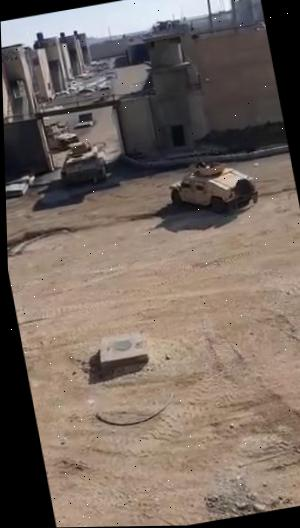armored_car: (163, 152, 260, 222), (42, 120, 82, 154)
tank: (54, 136, 110, 187)
